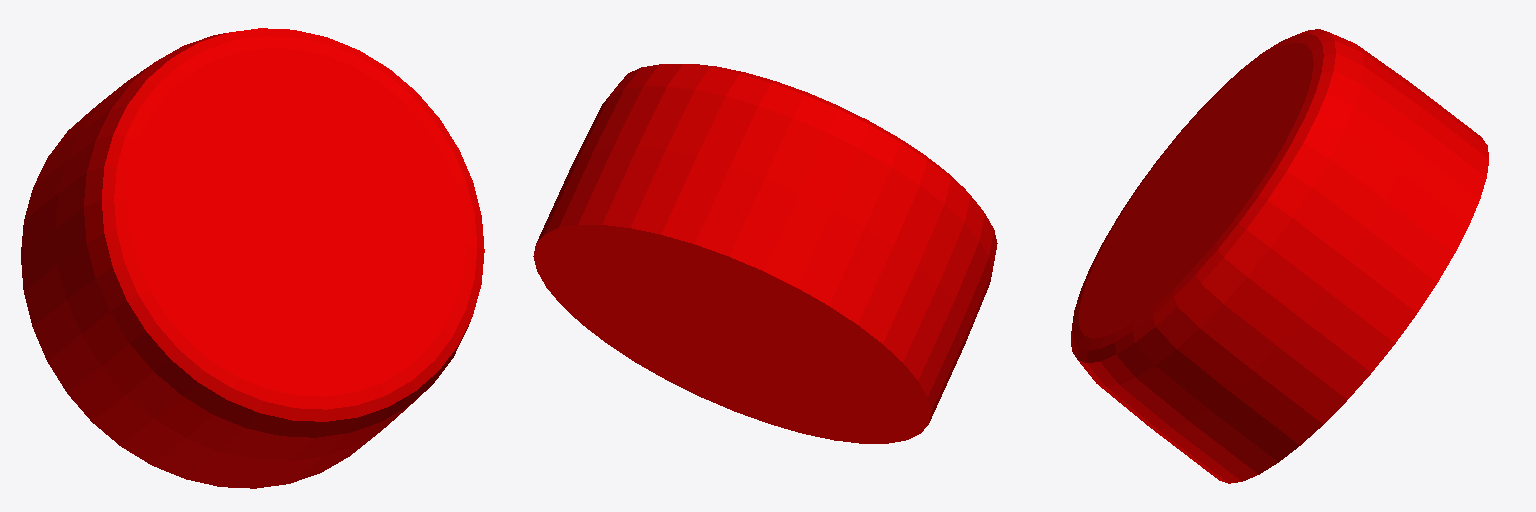
Rendered from Events-Btn-Sync1.obj.
The picture shows the model from 3 angles: view 1: azimuth 30°, elevation 25°; view 2: azimuth 150°, elevation 25°; view 3: azimuth 270°, elevation 25°; orthographic projection.
Visible parts, largest first — view 1: Events-Btn-Sync1_Bouton.009; view 2: Events-Btn-Sync1_Bouton.009; view 3: Events-Btn-Sync1_Bouton.009.
Boxes of the visible parts, box(x1,y1,x2,y2) form: Events-Btn-Sync1_Bouton.009: box(21, 28, 484, 488); Events-Btn-Sync1_Bouton.009: box(533, 64, 997, 443); Events-Btn-Sync1_Bouton.009: box(1071, 29, 1488, 483).
Bounding box in the file's own units: 0.1298 × 0.1341 × 0.1255.